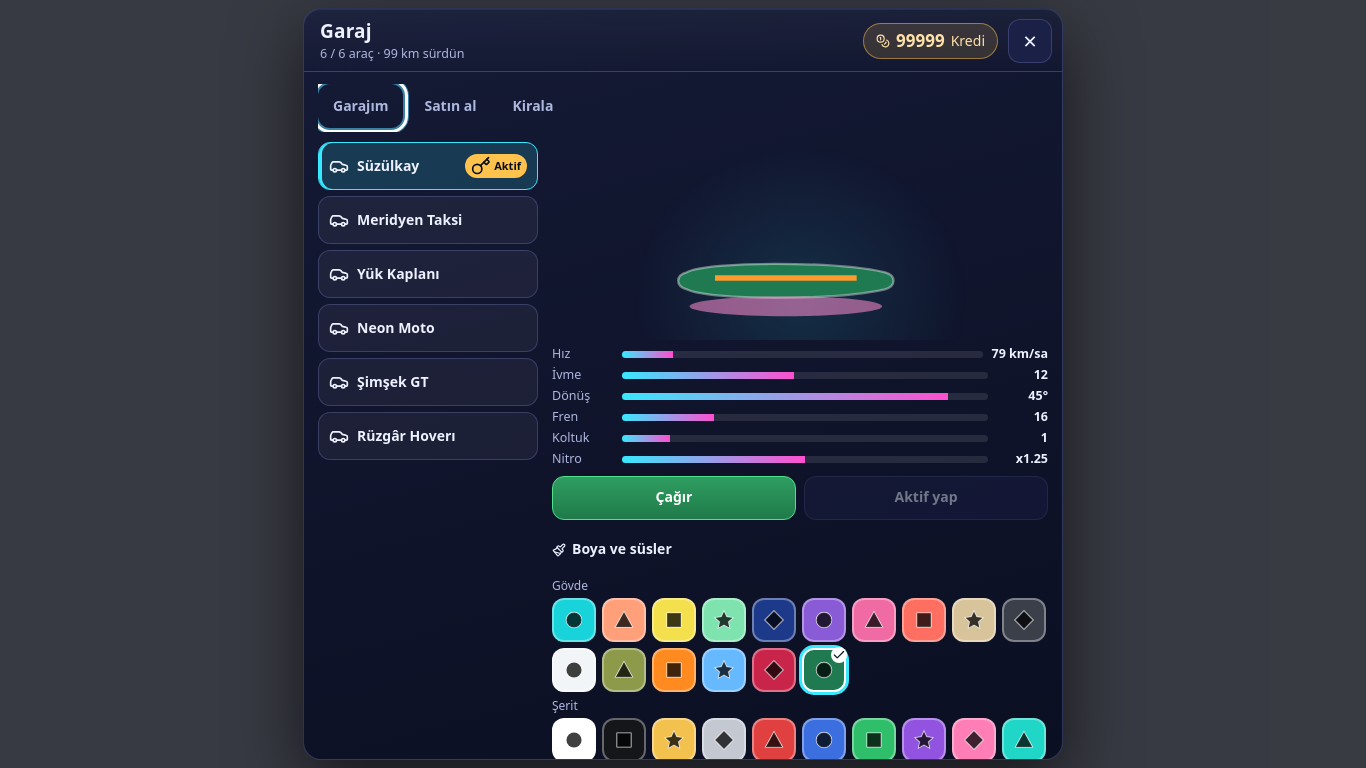
Test: GaragePanel: Satın al ve Kirala › garaj dolu (6 araç): satın alma kapalı ve neden yazılı
This screenshot has width=1366, height=768.
Click the tab with test id "tab-buy". click: (450, 106)
box: [409,84,492,128]
(page scrolled)
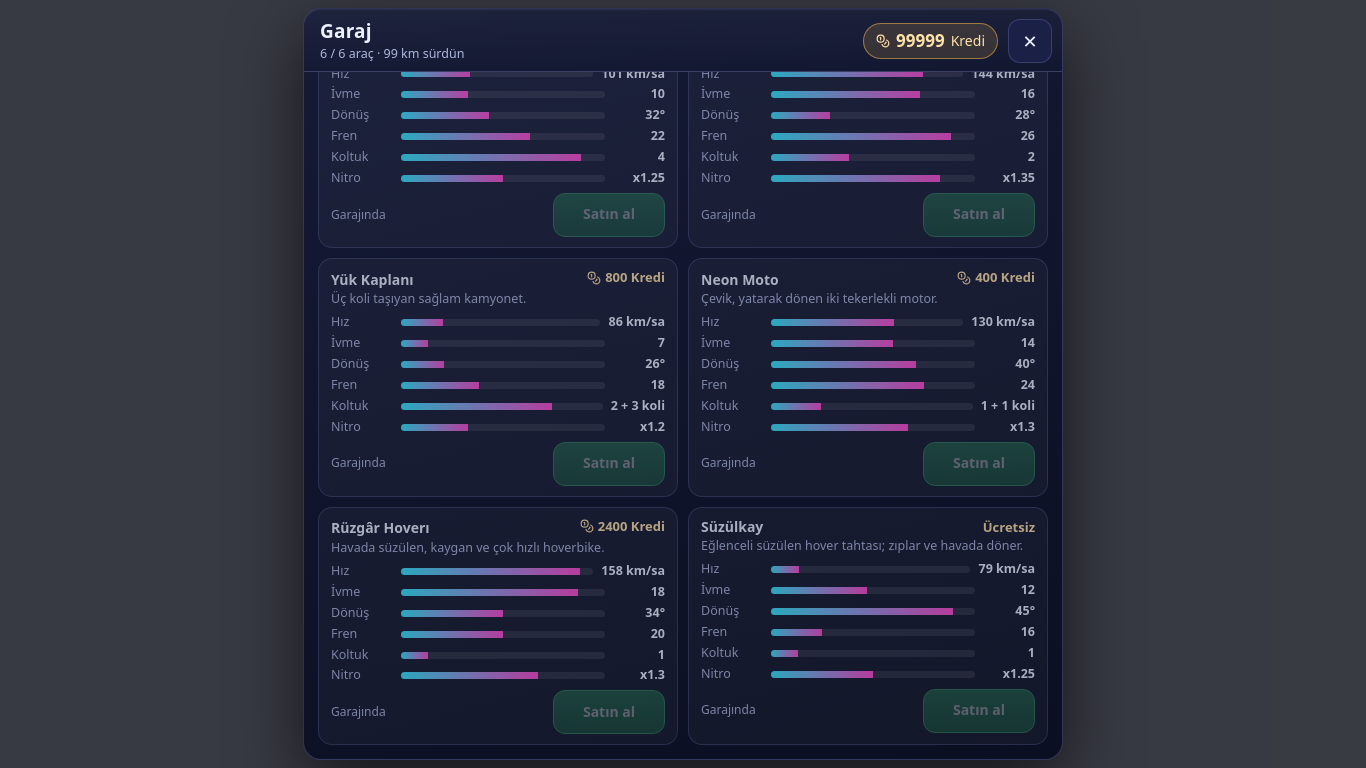
Check: the button with test id "buy-suzulkay" is disabled, box [923,689,1035,733]
Check: the button with test id "buy-taksi" is disabled, box [553,193,665,237]
